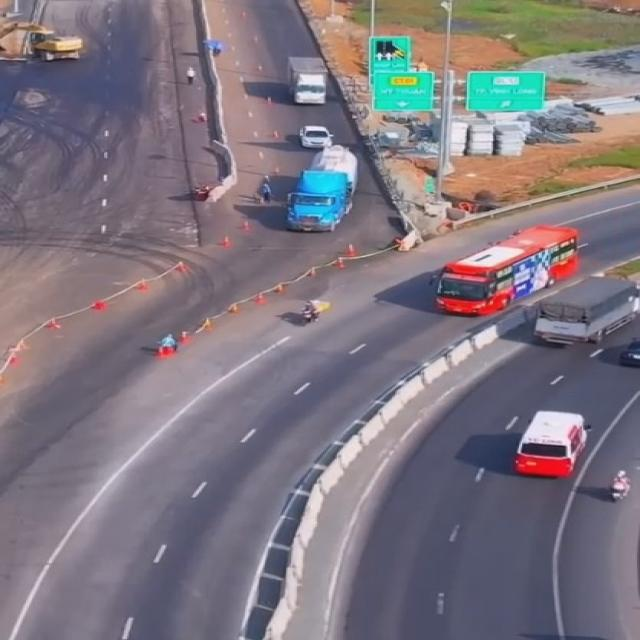bus: (430, 222, 590, 317), (513, 407, 588, 483)
car: (300, 121, 336, 147)
motorbike: (603, 472, 631, 508)
truck: (534, 273, 637, 346), (284, 143, 356, 233), (283, 55, 334, 103)
